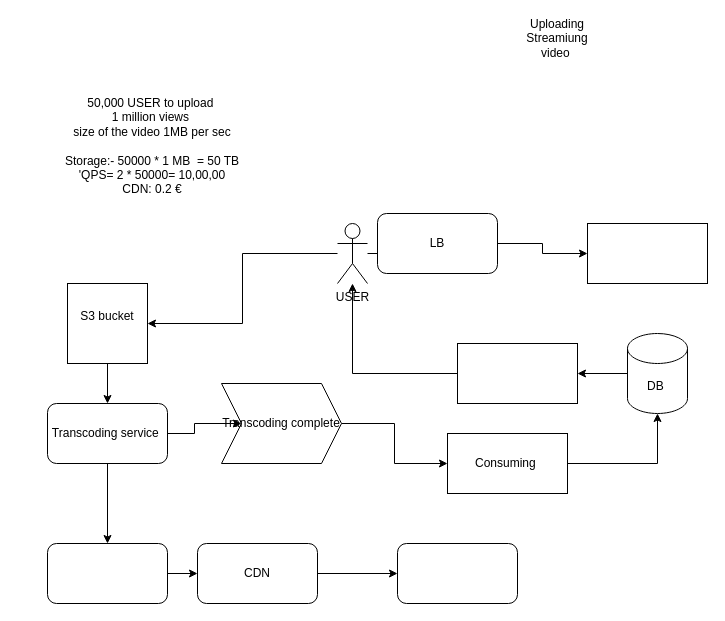
This 725x621 diagram has some shape labels left out. The shapes that lost their labels are listed below. From the top down, each one's box as (x1, y1, x2, y2) in pixels, then its label:
(586, 222, 708, 284): WS
(456, 342, 578, 404): Meta data cache
(46, 542, 168, 604): Trancoding vidoes
(396, 542, 518, 604): Storaage
